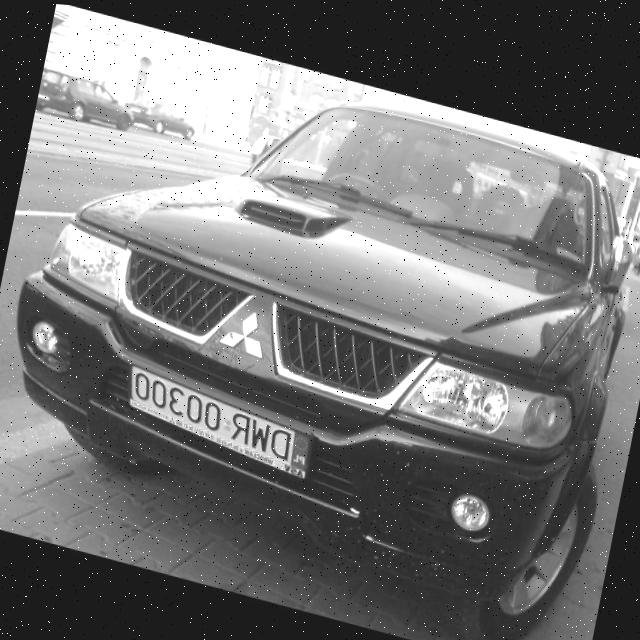license-plates: (128, 370, 308, 478)
